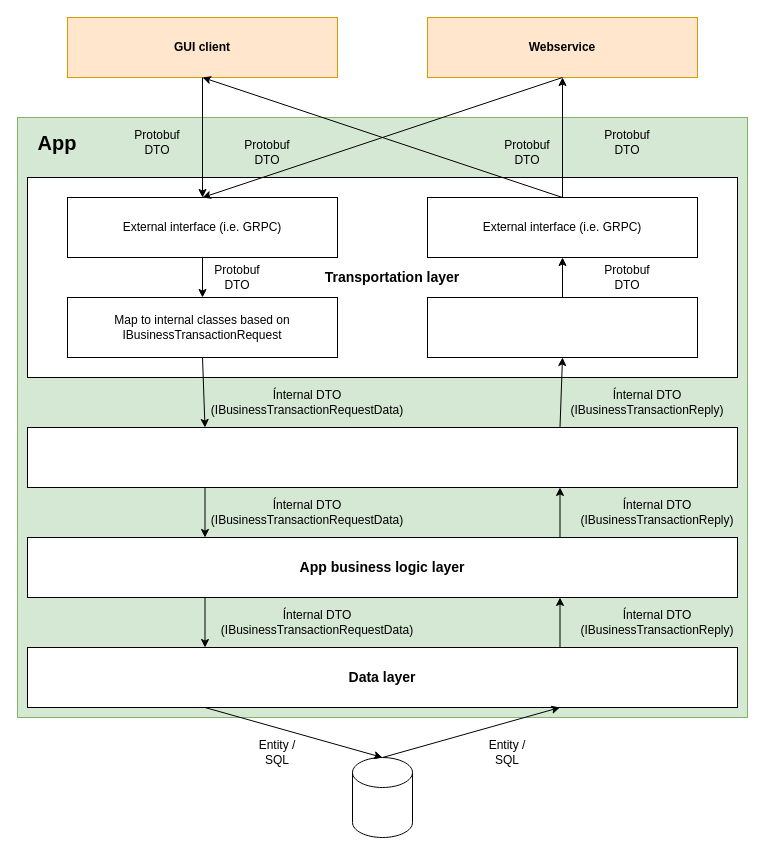
Image size: 765x855. Some labels were removed from this diagram. Each missing label, with the centre of its shape:
"Business transaction layer (BusinessTransactionManager)" belongs at [382,457].
"Database" belongs at [382,797].
"Map IBusinessTransactionReply based replies to external classes" belongs at [562,327].
